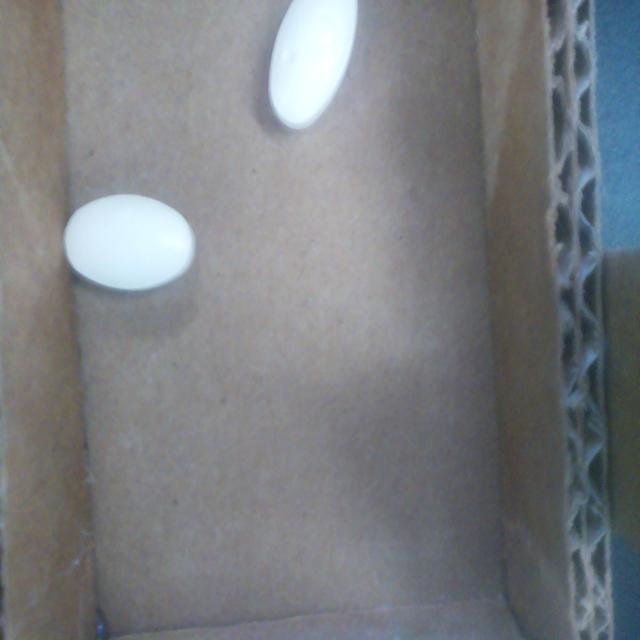pill: (64, 192, 196, 290), (269, 0, 357, 129)
